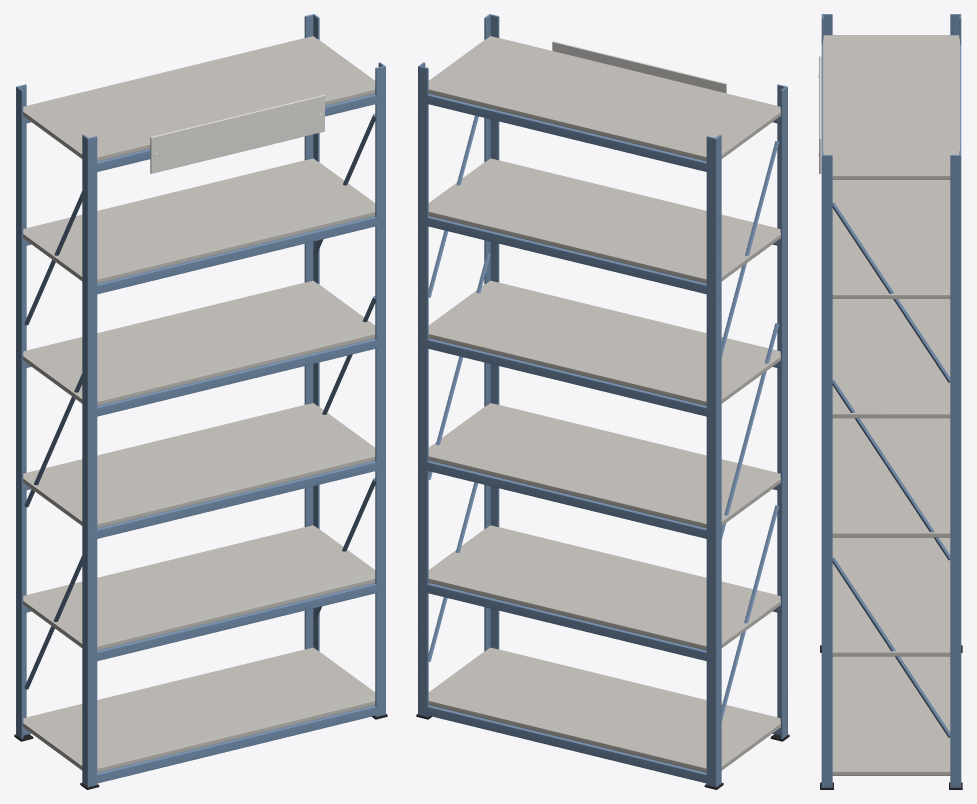
File: shelf_tall.glb
3 views of the same model, side by side, from view 1: azimuth 30°, elevation 25°; view 2: azimuth 150°, elevation 25°; view 3: azimuth 270°, elevation 25° (orthographic). The views are drawn at different scales.
Parts seen in each view (by area): view 1: SM_shelf_tall; view 2: SM_shelf_tall; view 3: SM_shelf_tall.
Boxes of the visible parts, x1,y1,x2,y2 form: SM_shelf_tall: [14, 14, 387, 789]; SM_shelf_tall: [416, 14, 789, 789]; SM_shelf_tall: [818, 14, 962, 789].
Bounding box in the file's own units: 1.21 × 2.5 × 0.517.
